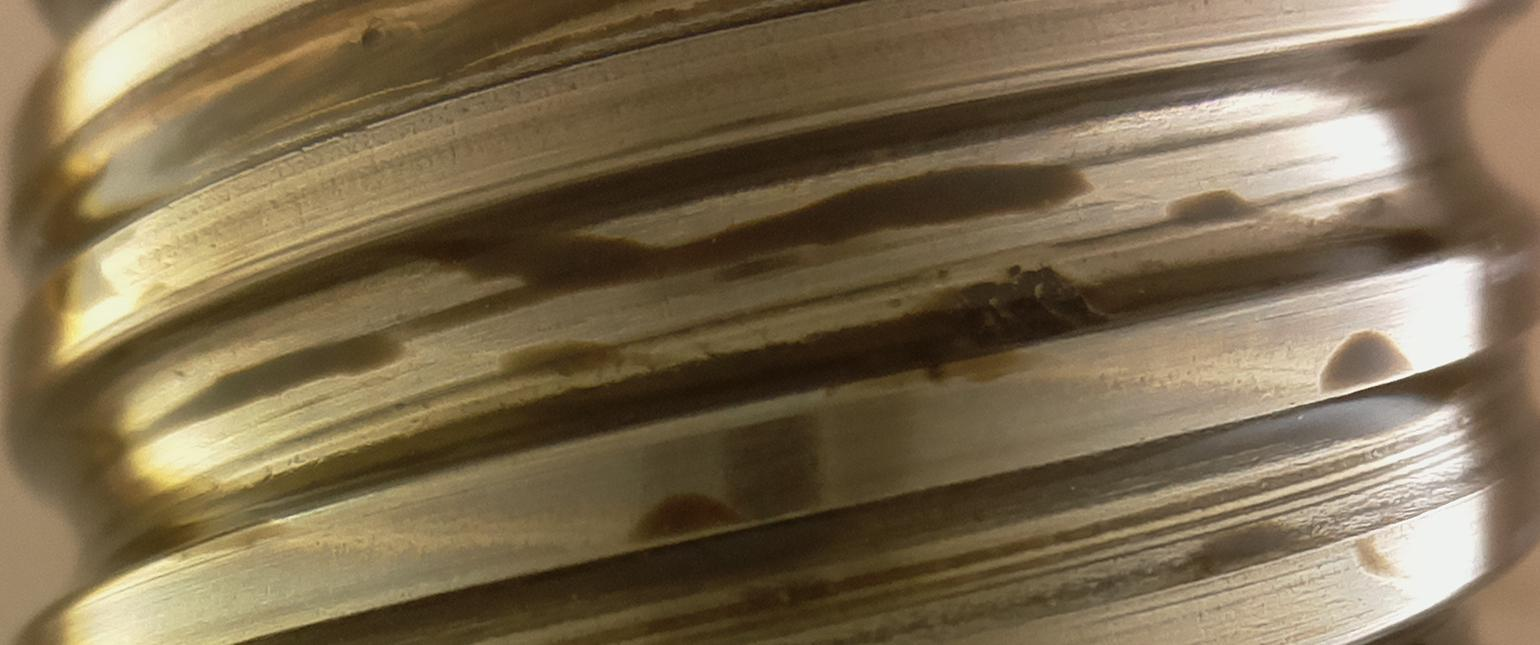pitting: (962, 264, 1108, 348)
